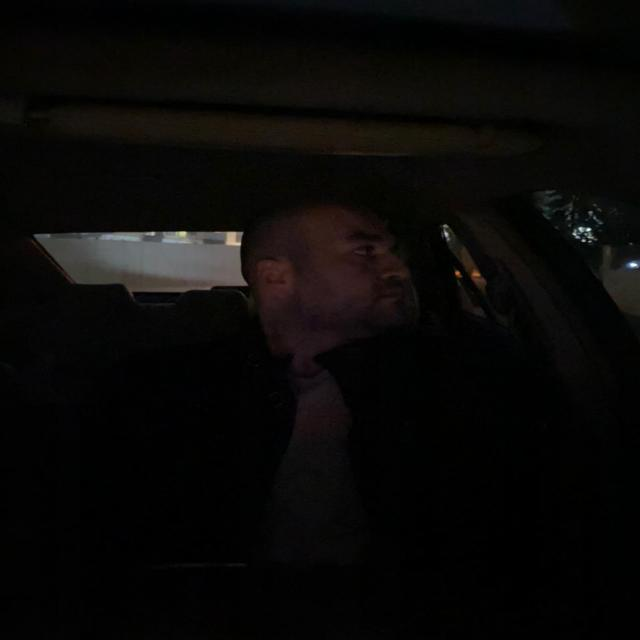LeftRight: (230, 203, 418, 344)
